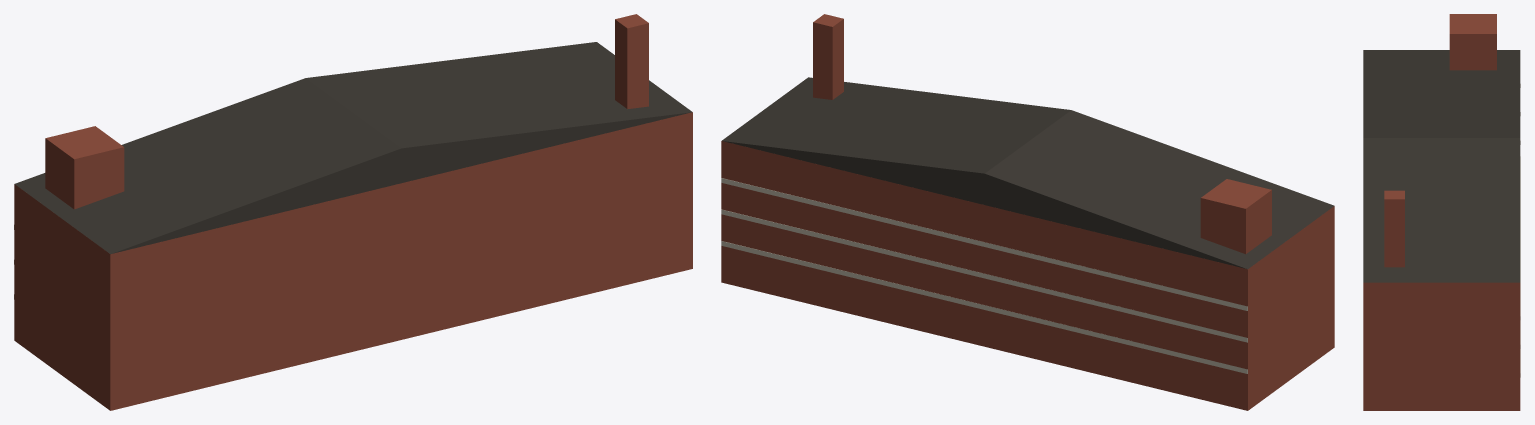
The model's file is d-us-02-brick-mill.glb.
3 views of the same model, side by side, from view 1: azimuth 30°, elevation 25°; view 2: azimuth 150°, elevation 25°; view 3: azimuth 270°, elevation 25° (orthographic). The views are drawn at different scales.
Parts seen in each view (by area): view 1: part0, part1, part5, part6; view 2: part0, part1, part5, part3, part4, part2, part6; view 3: part1, part0, part5, part6, part4.
Part boxes in pixels (left/top/right/bottom): part0: left=14, top=112, right=692, bottom=410; part1: left=15, top=42, right=692, bottom=254; part5: left=45, top=126, right=124, bottom=209; part6: left=615, top=14, right=648, bottom=109; part0: left=721, top=141, right=1334, bottom=410; part1: left=722, top=77, right=1334, bottom=269; part5: left=1200, top=179, right=1271, bottom=254; part3: left=721, top=209, right=1247, bottom=342; part4: left=721, top=178, right=1247, bottom=310; part2: left=721, top=241, right=1247, bottom=373; part6: left=813, top=14, right=843, bottom=99; part1: left=1363, top=50, right=1520, bottom=282; part0: left=1363, top=282, right=1520, bottom=410; part5: left=1449, top=14, right=1496, bottom=70; part6: left=1384, top=190, right=1404, bottom=267; part4: left=1520, top=84, right=1520, bottom=319.
Size of the model in its own units: 70000 by 28000 by 20049.
